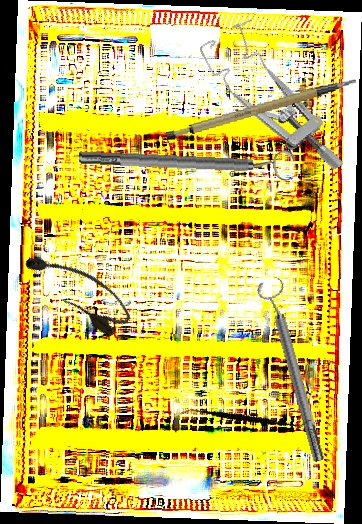Cannula: (19, 237, 138, 342)
Fixation Ring: (254, 276, 333, 466), (78, 138, 295, 185)
Scalpel Handle: (162, 77, 361, 144)
Spatula Surgical: (178, 362, 312, 472)
Speculum: (197, 10, 345, 199)
